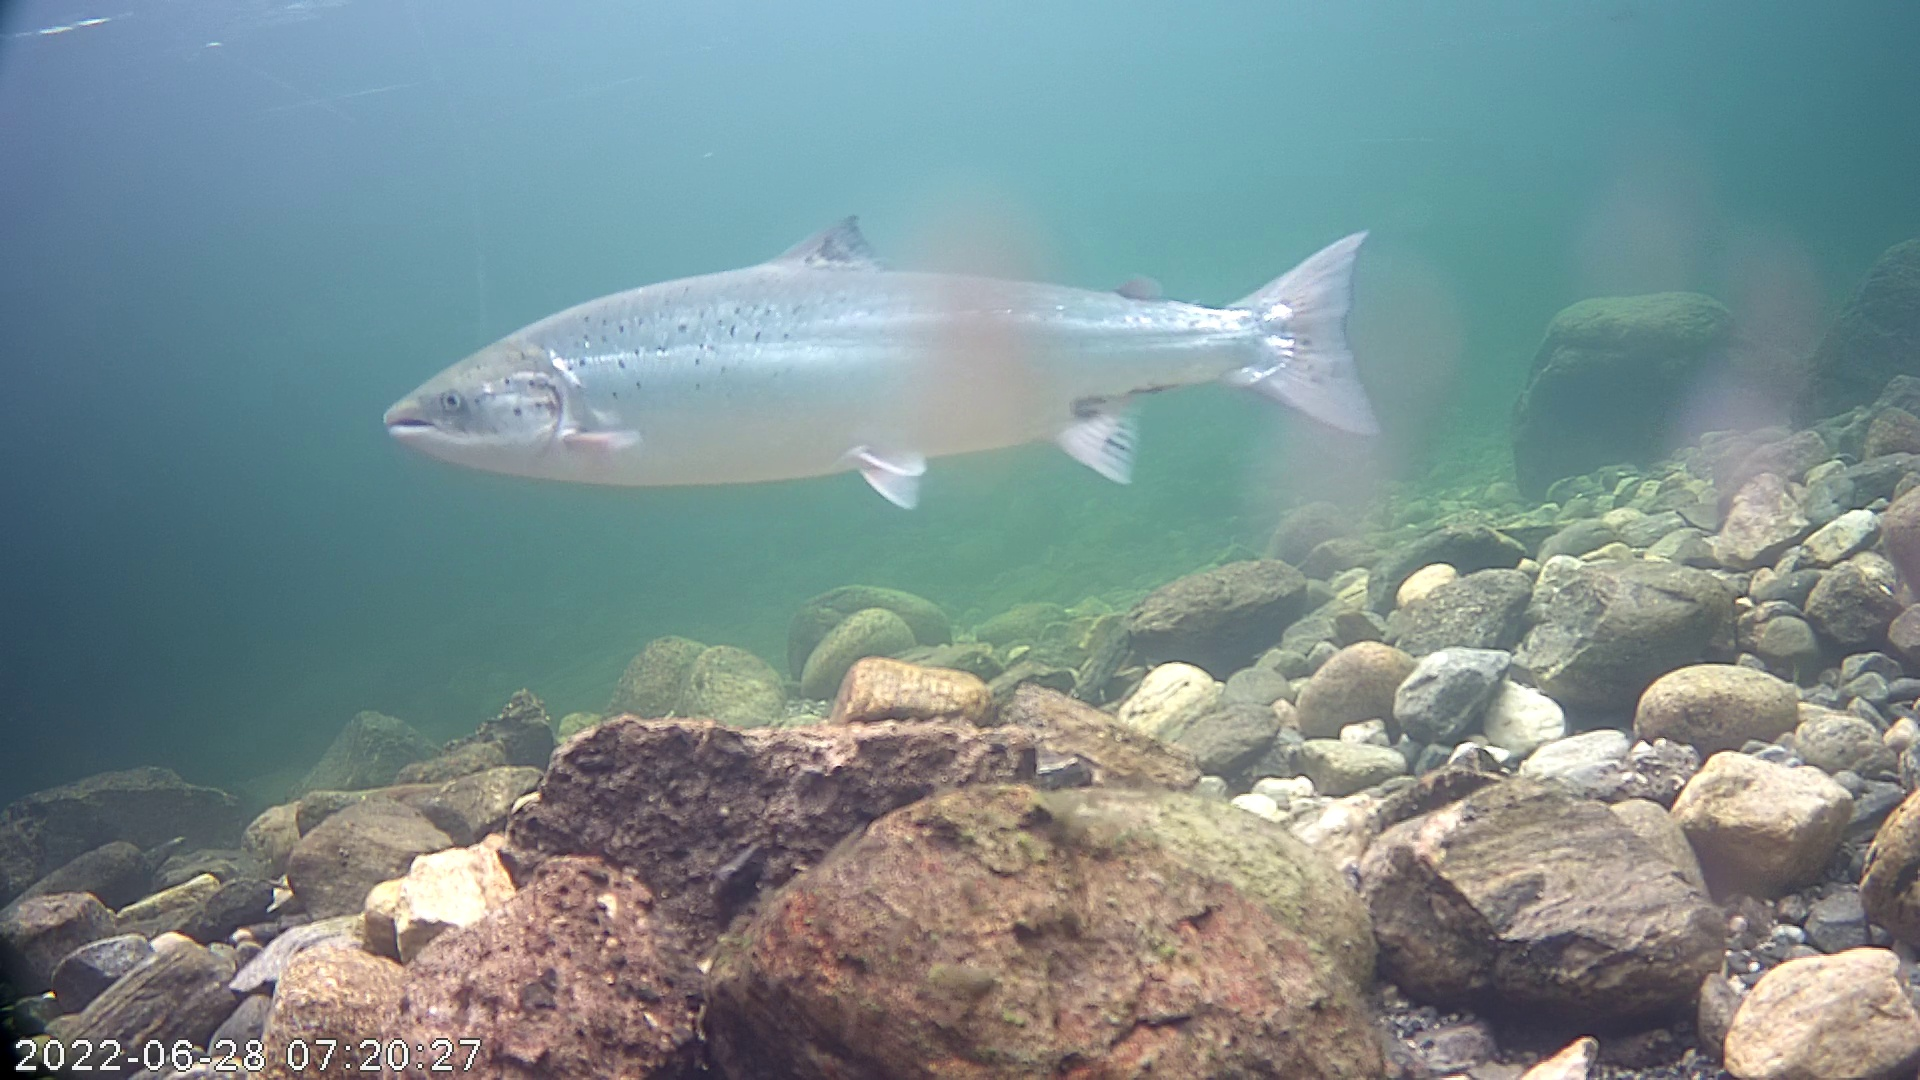salmon: (377, 112, 1423, 566)
